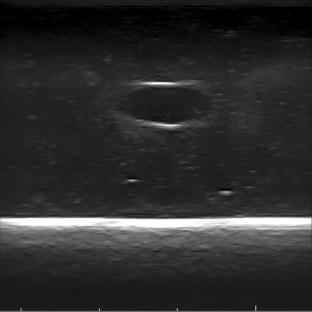vessel: (119, 80, 213, 131)
